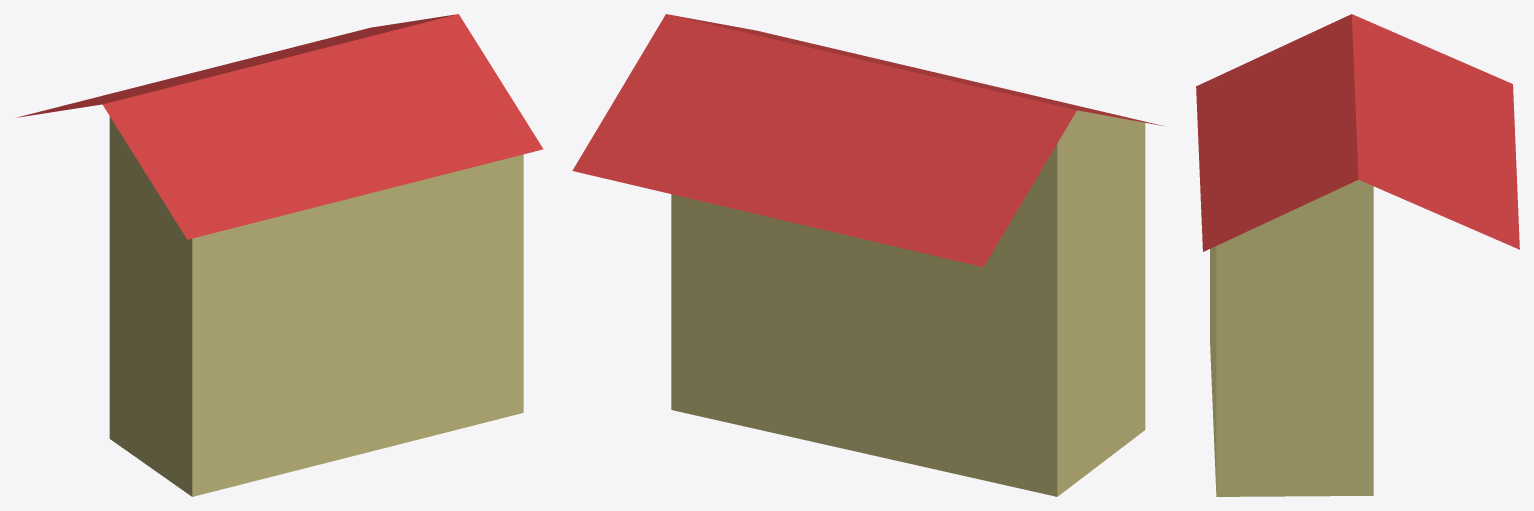
3 renders of one model, left to right at view 1: azimuth 30°, elevation 25°; view 2: azimuth 150°, elevation 25°; view 3: azimuth 270°, elevation 25°, orthographic. The views are drawn at different scales.
Size of the model in its own units: 7.27 by 5.92 by 6.5.
